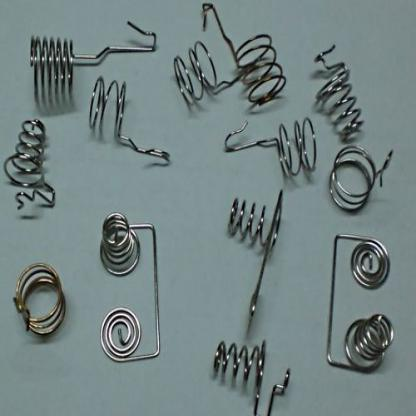FOD: (26, 13, 159, 101), (95, 209, 164, 362), (322, 231, 393, 374), (201, 0, 287, 108), (226, 186, 287, 322), (89, 74, 174, 166), (211, 336, 294, 415), (223, 114, 319, 181), (2, 113, 57, 219), (313, 43, 365, 139), (12, 258, 72, 340), (327, 142, 394, 214)
